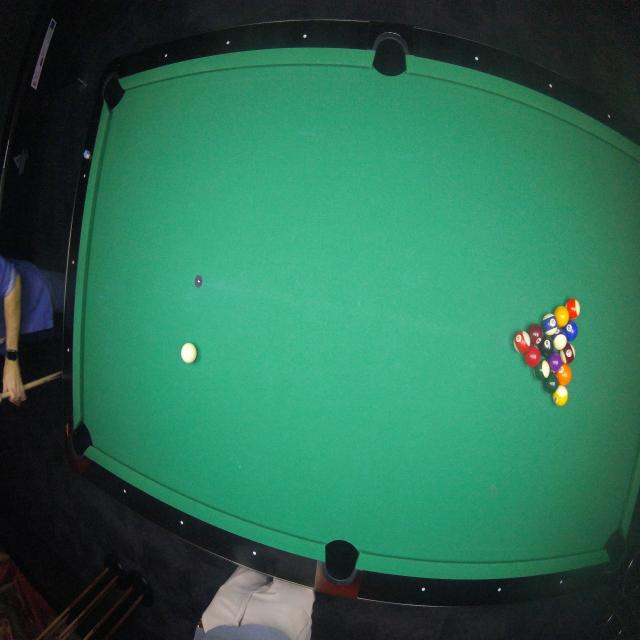cue ball: (178, 340, 198, 367)
other: (513, 330, 530, 354), (541, 314, 559, 336), (533, 360, 550, 382), (551, 328, 567, 351), (560, 342, 576, 365), (553, 384, 568, 408), (556, 364, 572, 386), (525, 344, 540, 367), (539, 336, 554, 358), (554, 306, 569, 327), (566, 298, 580, 320), (528, 324, 543, 344), (564, 321, 578, 342), (548, 352, 562, 373), (545, 373, 559, 393)
